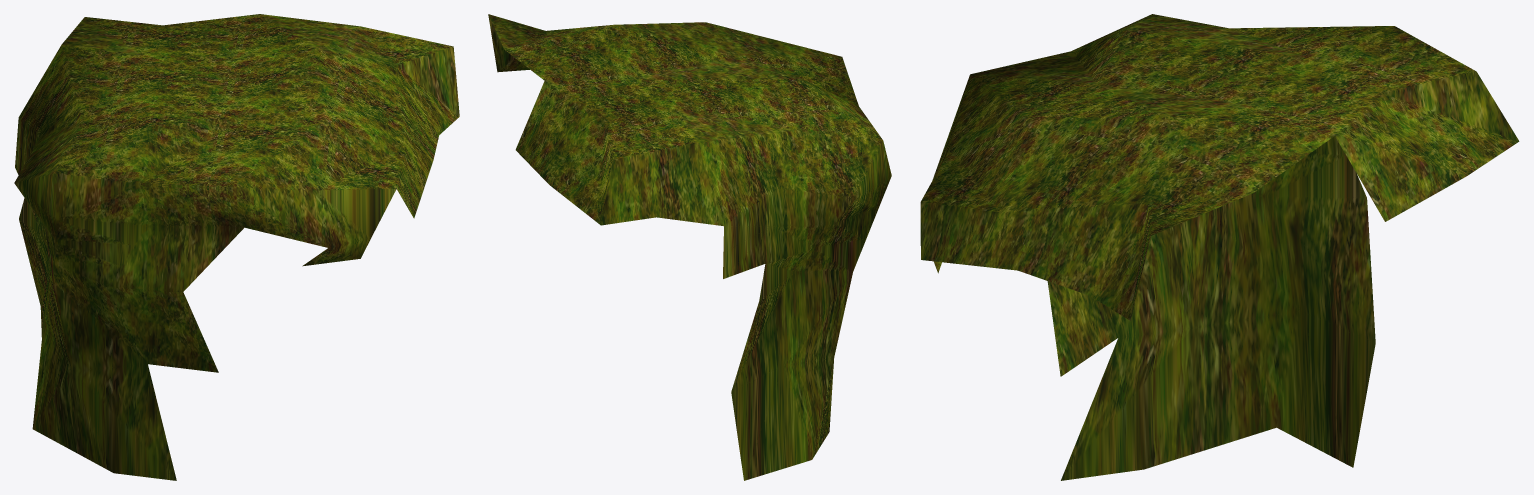
The model's file is TROLLHOLE02_RM_PSURF44.fbx.
3 views of the same model, side by side, from view 1: azimuth 30°, elevation 25°; view 2: azimuth 150°, elevation 25°; view 3: azimuth 270°, elevation 25° (orthographic). The views are drawn at different scales.
Parts seen in each view (by area): view 1: TROLLHOLE02_RM_PSURF44; view 2: TROLLHOLE02_RM_PSURF44; view 3: TROLLHOLE02_RM_PSURF44.
Boxes of the visible parts, bbox=[...] form: TROLLHOLE02_RM_PSURF44: bbox=[14, 14, 459, 480]; TROLLHOLE02_RM_PSURF44: bbox=[488, 14, 891, 480]; TROLLHOLE02_RM_PSURF44: bbox=[920, 14, 1519, 480].
Bounding box in the file's own units: 76883 × 66405 × 73304.
1 material, 1 textured.
